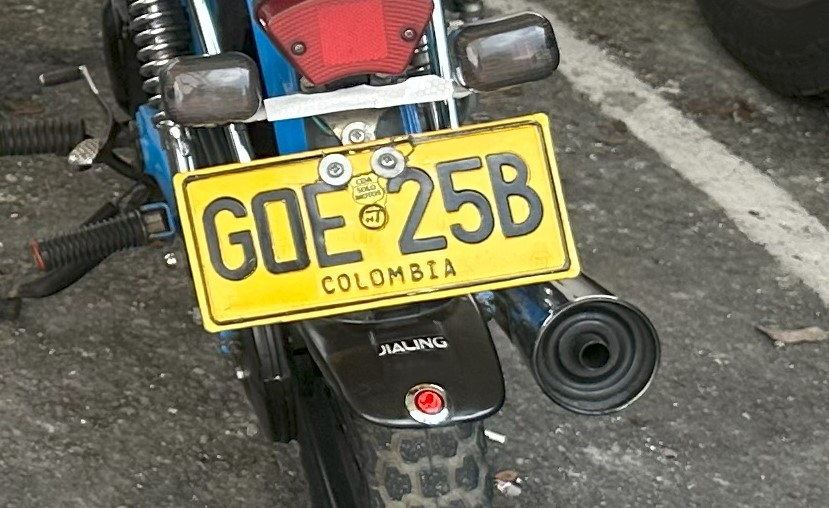number plate: (174, 114, 579, 331)
